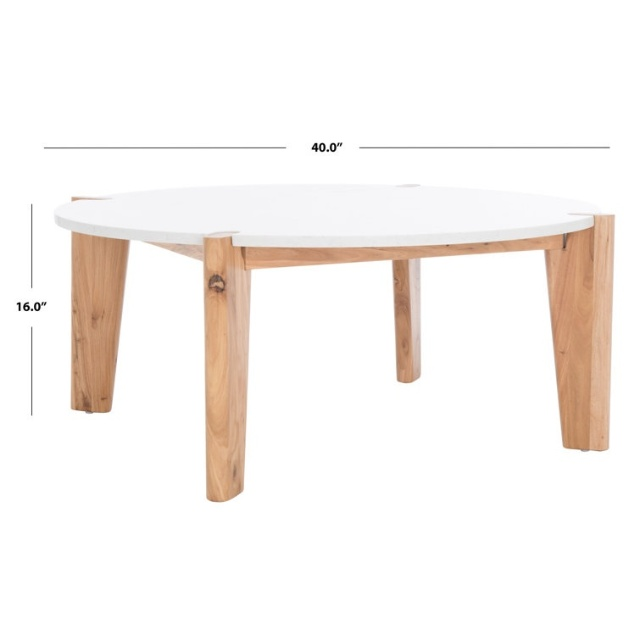obstacle: (55, 185, 613, 501)
